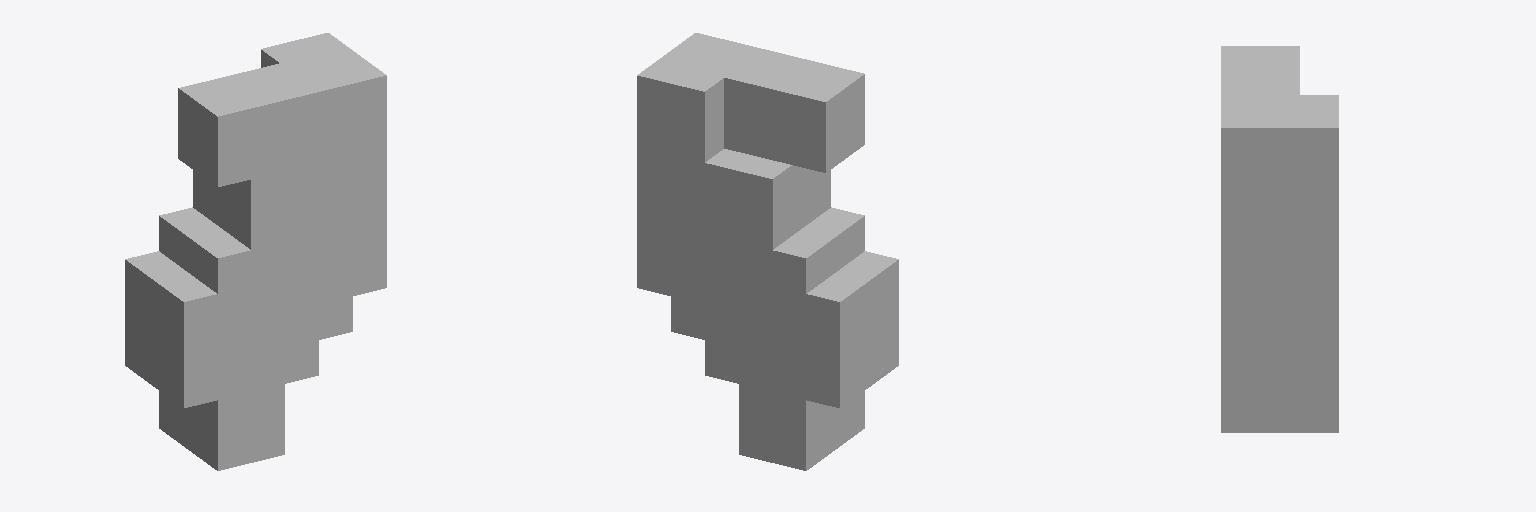
Rendered from donkey arm 1.obj.
3 views of the same model, side by side, from view 1: azimuth 30°, elevation 25°; view 2: azimuth 150°, elevation 25°; view 3: azimuth 270°, elevation 25° (orthographic).
Parts seen in each view (by area): view 1: donkey_arm1:donkeyarm; view 2: donkey_arm1:donkeyarm; view 3: donkey_arm1:donkeyarm.
Part boxes in pixels (bbox=[...]): donkey_arm1:donkeyarm: bbox=[125, 33, 386, 470]; donkey_arm1:donkeyarm: bbox=[637, 33, 898, 470]; donkey_arm1:donkeyarm: bbox=[1221, 46, 1338, 432].
Size of the model in its own units: 6 by 10 by 3.